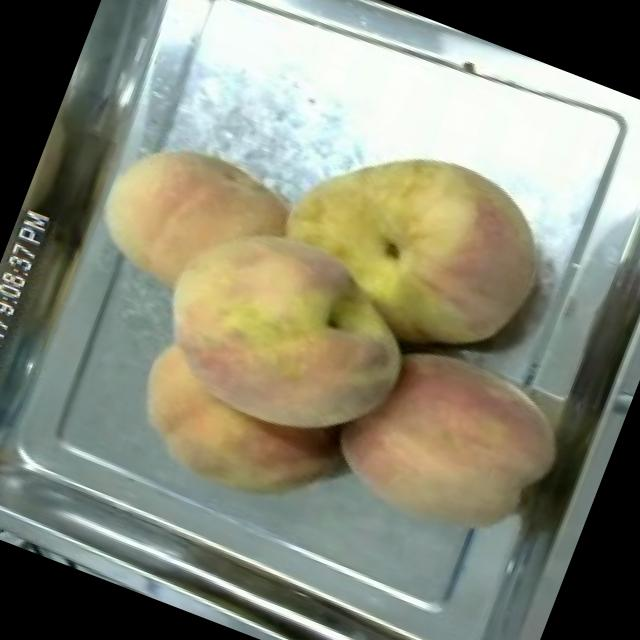Fruit: (113, 191, 442, 504), (244, 101, 574, 395), (309, 308, 595, 570)
